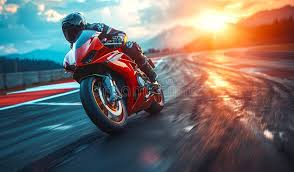motorcycle: (61, 27, 169, 135)
